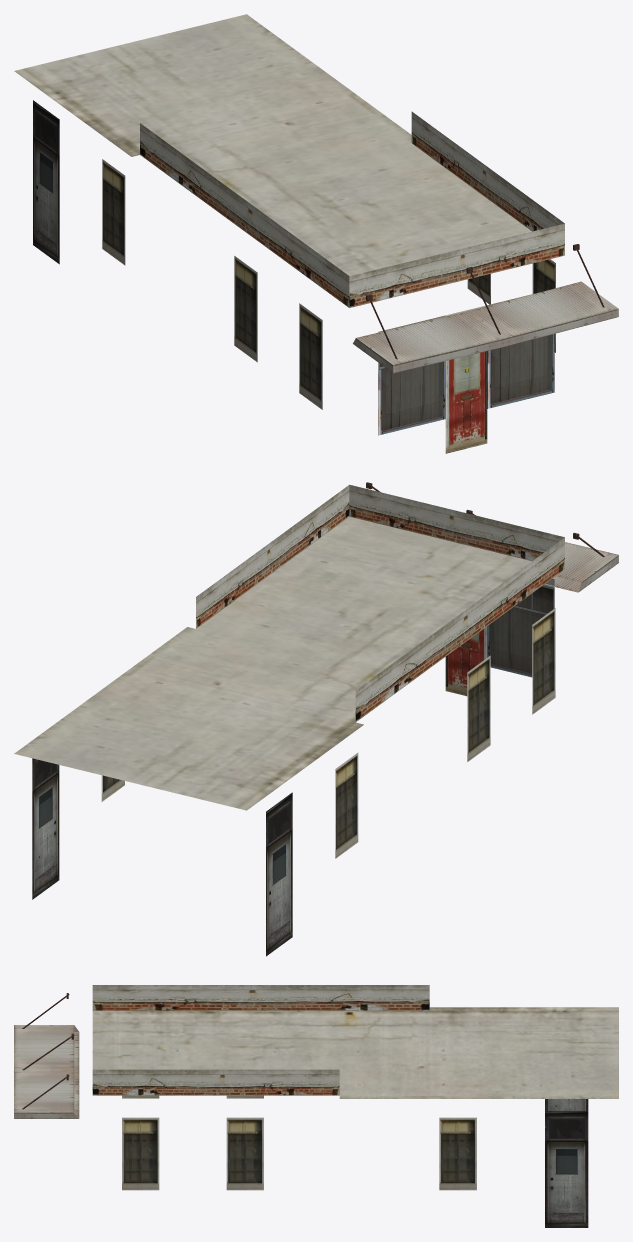
The model's file is rural_storesmall_3_rural_facade_flr_2_0_lev2.glb.
The picture shows the model from 3 angles, top to bottom: view 1: azimuth 30°, elevation 25°; view 2: azimuth 150°, elevation 25°; view 3: azimuth 270°, elevation 25°; orthographic projection. The views are drawn at different scales.
Visible parts, largest first — view 1: rural_storesmall_3_rural_facade_flr_2_0_lev2; view 2: rural_storesmall_3_rural_facade_flr_2_0_lev2; view 3: rural_storesmall_3_rural_facade_flr_2_0_lev2.
Part boxes in pixels (box(x1,y1,x2,y2)): rural_storesmall_3_rural_facade_flr_2_0_lev2: box(14, 14, 618, 453); rural_storesmall_3_rural_facade_flr_2_0_lev2: box(14, 482, 618, 956); rural_storesmall_3_rural_facade_flr_2_0_lev2: box(14, 985, 618, 1227).
Bounding box in the file's own units: 4.49 × 3.53 × 12.51.
Materials: 1 (1 with a texture image).
